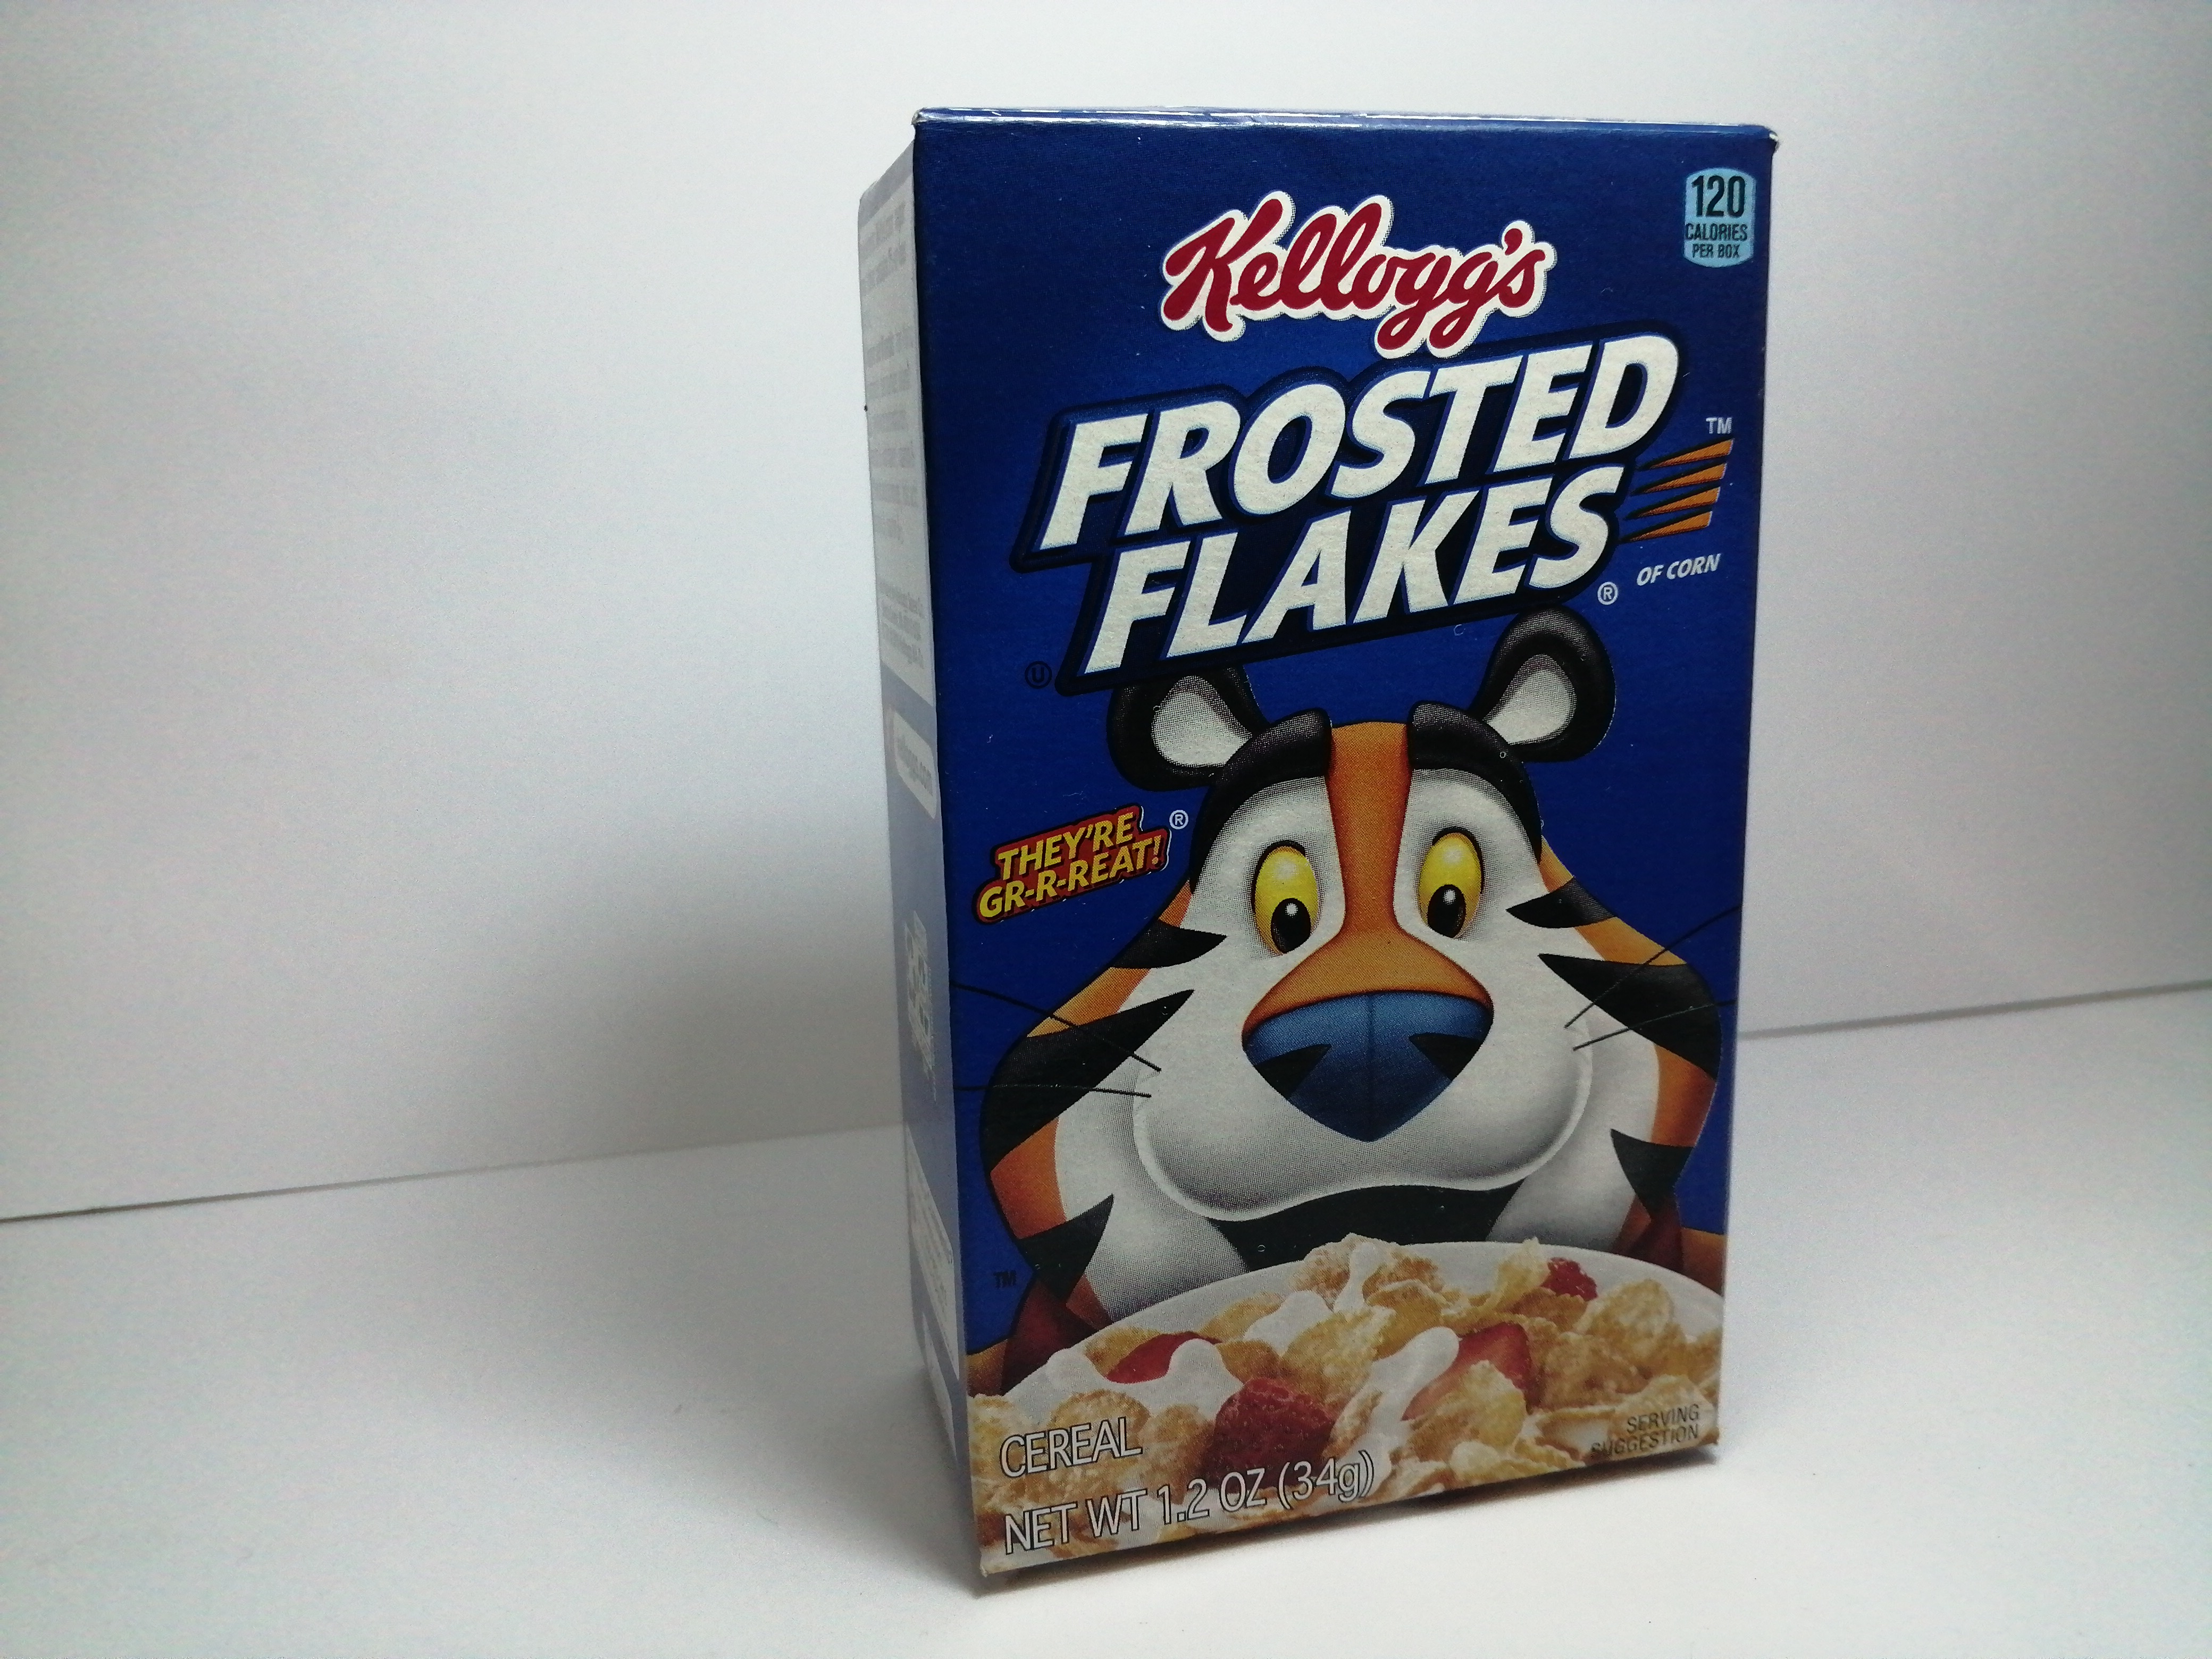cereal azucarado: (829, 70, 1820, 1600)
